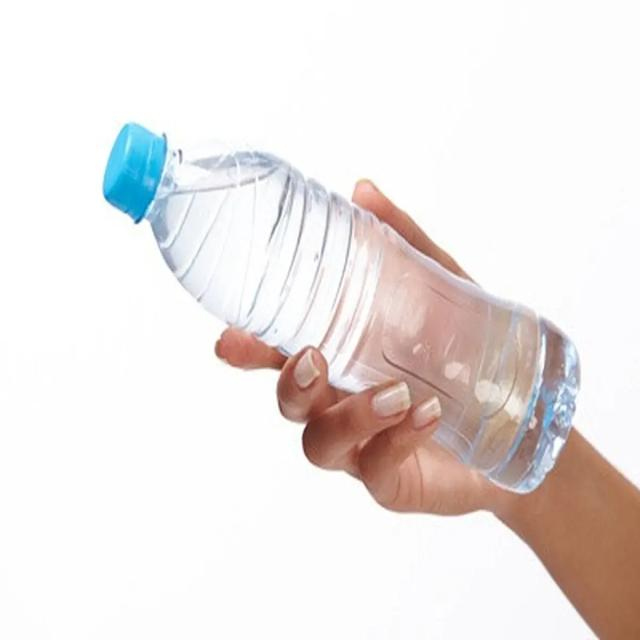bottle: (100, 113, 585, 495)
